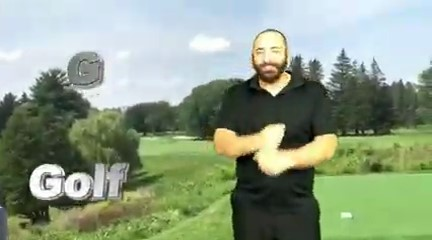G: (250, 117, 301, 182)
